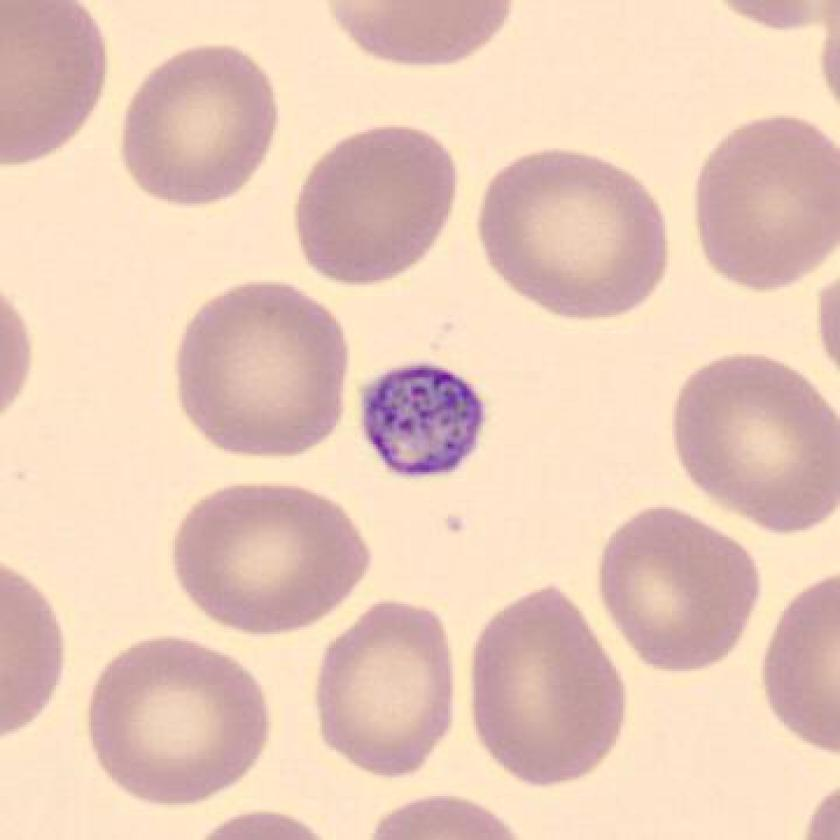platelets: (353, 355, 498, 494)
